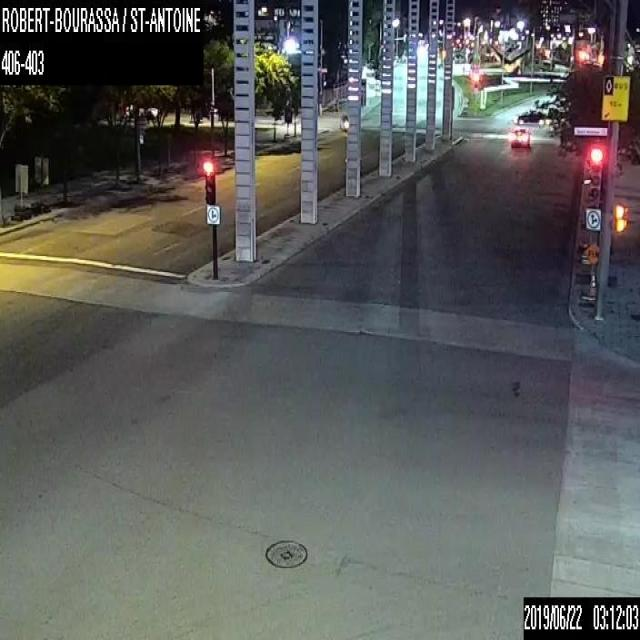construction: (582, 242, 598, 300), (587, 269, 597, 297)
vehicle: (517, 108, 545, 125), (509, 125, 530, 147)
